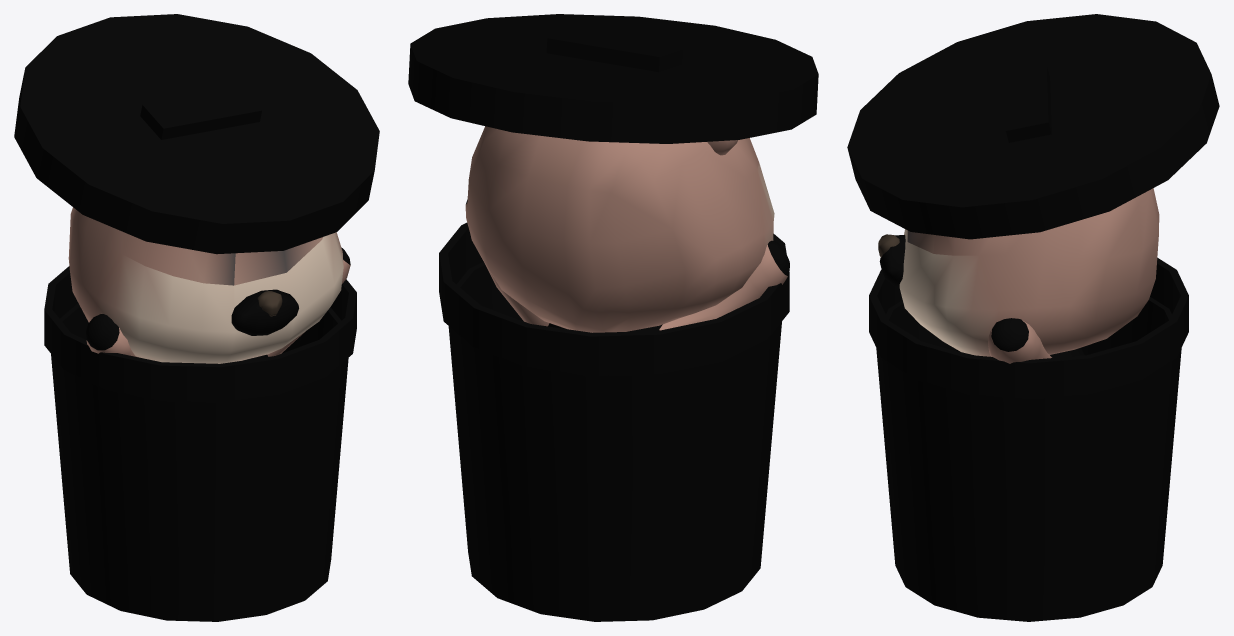
File: ottis_rubbish.fbx
3 views of the same model, side by side, from view 1: azimuth 30°, elevation 25°; view 2: azimuth 150°, elevation 25°; view 3: azimuth 270°, elevation 25° (orthographic). The views are drawn at different scales.
Visible parts, largest first — view 1: PM3D_Sphere3D3; view 2: PM3D_Sphere3D3; view 3: PM3D_Sphere3D3.
Part boxes in pixels (x1,y1,x2,y2): PM3D_Sphere3D3: (14, 14, 379, 621); PM3D_Sphere3D3: (408, 14, 818, 621); PM3D_Sphere3D3: (847, 14, 1219, 621).
Size of the model in its own units: 2.54 by 3.7 by 2.52.
